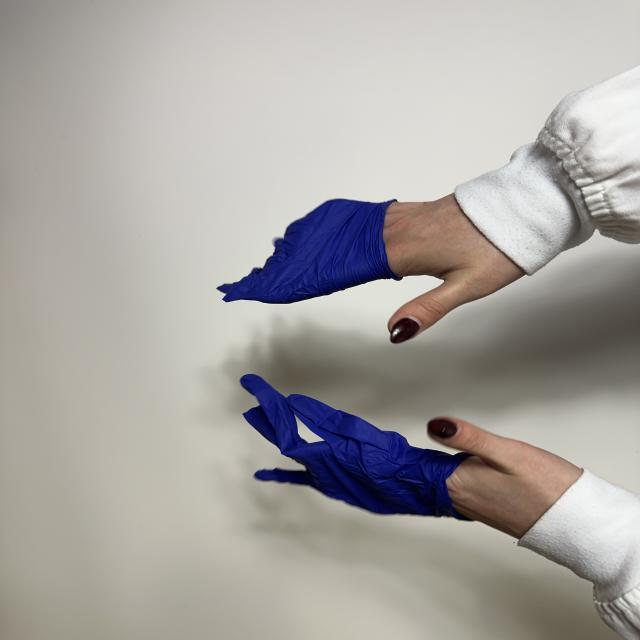glove_partial: (240, 374, 582, 540), (219, 194, 524, 343)
